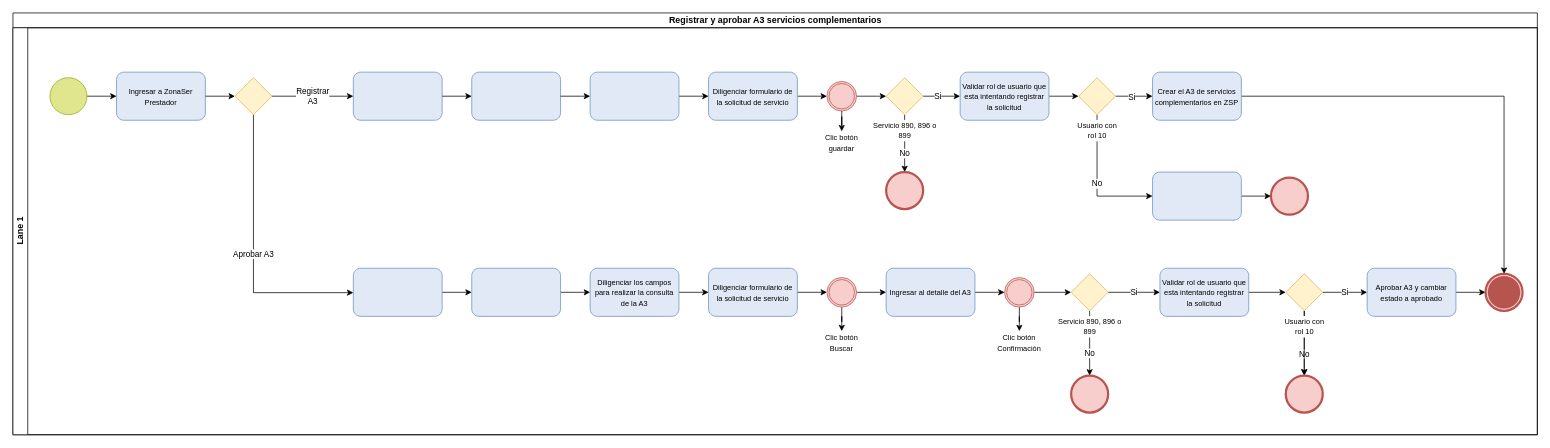
Image size: 1550x448. Some labels were removed from this diagram. The shapes that lost their labels are listed below. From the top down, each one's centre as x and y in pixels, then its label:
pixel 397 95: Ingresar al Modulo de "Atención al Usuario"
pixel 516 95: Diligenciar formulario seleccionado la IPS prestadora y afiliado
pixel 634 95: Escoger en tipo operación "Solicitud de Servicio de Salud"
pixel 1196 195: No permite la creación del A3 de servicios complementarios
pixel 397 292: Ingresar al Modulo de "Consulta General"
pixel 516 292: Escoger en Tipo de Consulta "Solicitud de Servicio de Salud"
